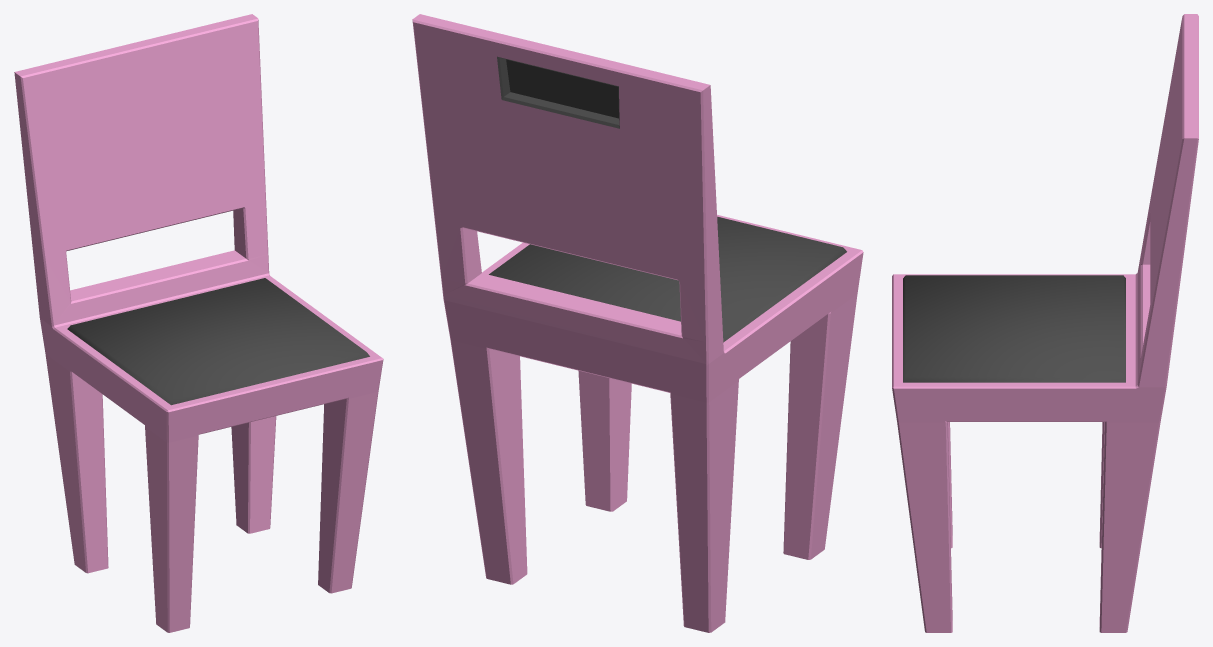
Rendered from Chair_Rd_01.FBX.
The picture shows the model from 3 angles, left to right: view 1: azimuth 30°, elevation 25°; view 2: azimuth 150°, elevation 25°; view 3: azimuth 270°, elevation 25°; orthographic projection. The views are drawn at different scales.
Parts seen in each view (by area): view 1: Chair_Rd_01; view 2: Chair_Rd_01; view 3: Chair_Rd_01.
Boxes of the visible parts, x1,y1,x2,y2 form: Chair_Rd_01: (14,14,383,632); Chair_Rd_01: (412,14,863,632); Chair_Rd_01: (892,14,1198,632).
Bounding box in the file's own units: 0.5255 × 1 × 0.548.
